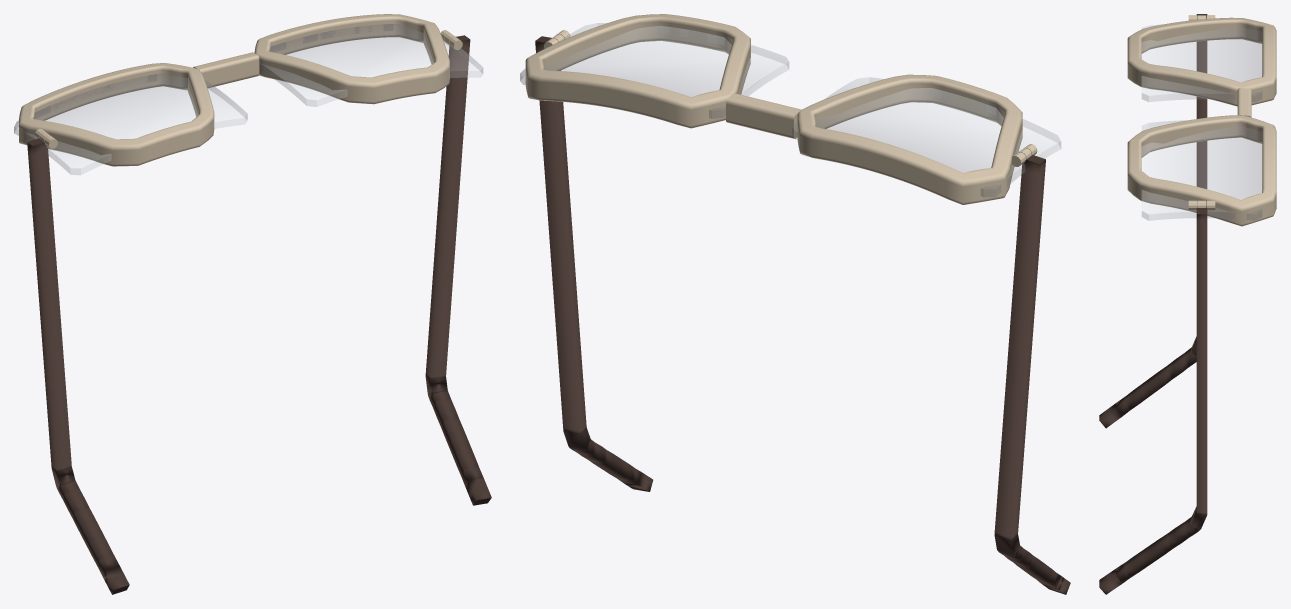
Rendered from aviator-metal.glb.
The picture shows the model from 3 angles, left to right: view 1: azimuth 30°, elevation 25°; view 2: azimuth 150°, elevation 25°; view 3: azimuth 270°, elevation 25°; orthographic projection. The views are drawn at different scales.
Parts seen in each view (by area): view 1: MEL_eyewear_Frame, MEL_eyewear_TempleL, MEL_eyewear_TempleR, MEL_eyewear_LensL, MEL_eyewear_LensR; view 2: MEL_eyewear_Frame, MEL_eyewear_LensL, MEL_eyewear_TempleR, MEL_eyewear_TempleL, MEL_eyewear_LensR; view 3: MEL_eyewear_Frame, MEL_eyewear_LensR, MEL_eyewear_LensL, MEL_eyewear_TempleL, MEL_eyewear_TempleR.
Boxes of the visible parts, box(x1,y1,x2,y2) form: MEL_eyewear_Frame: box(19, 14, 462, 166); MEL_eyewear_TempleL: box(425, 35, 491, 505); MEL_eyewear_TempleR: box(27, 138, 129, 594); MEL_eyewear_LensL: box(14, 73, 247, 174); MEL_eyewear_LensR: box(260, 24, 483, 106); MEL_eyewear_Frame: box(525, 14, 1037, 204); MEL_eyewear_LensL: box(792, 77, 1061, 196); MEL_eyewear_TempleR: box(994, 155, 1070, 594); MEL_eyewear_TempleL: box(535, 36, 653, 491); MEL_eyewear_LensR: box(520, 23, 789, 118); MEL_eyewear_Frame: box(1127, 15, 1276, 226); MEL_eyewear_LensR: box(1141, 120, 1261, 220); MEL_eyewear_LensL: box(1141, 24, 1261, 101); MEL_eyewear_TempleL: box(1099, 206, 1207, 594); MEL_eyewear_TempleR: box(1099, 14, 1207, 428).
Bounding box in the file's own units: 0.1336 × 0.1282 × 0.0499.
